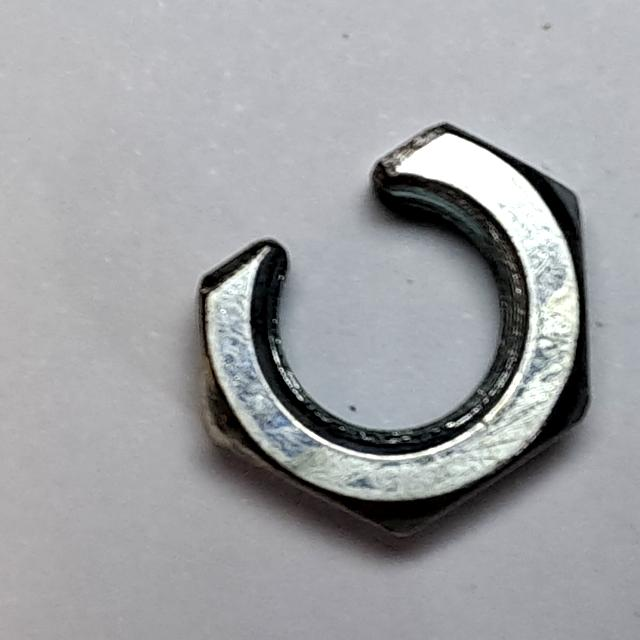Fracture: (179, 102, 605, 553)
